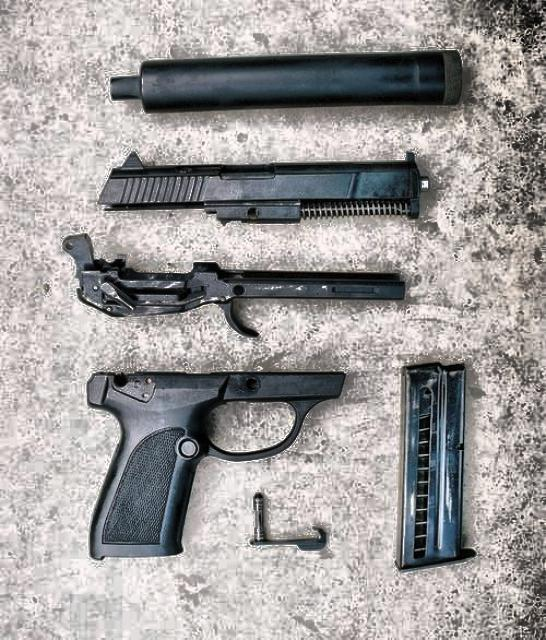pistol: (89, 272, 403, 562)
